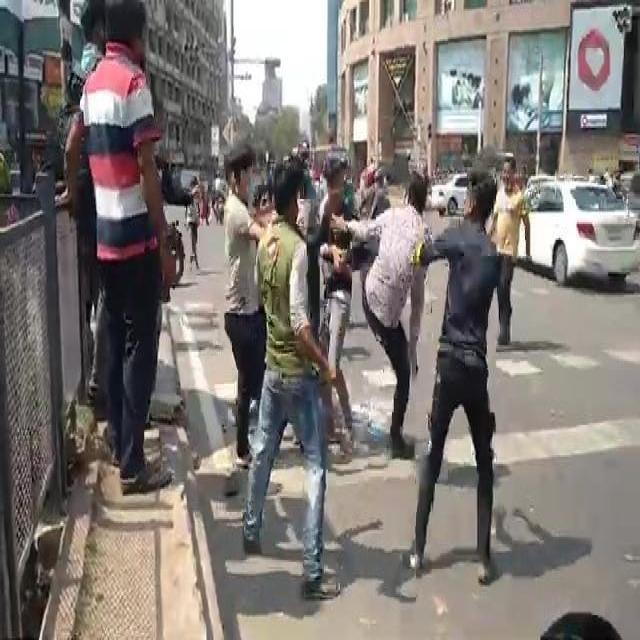fight: (198, 83, 498, 591), (64, 13, 178, 490)
